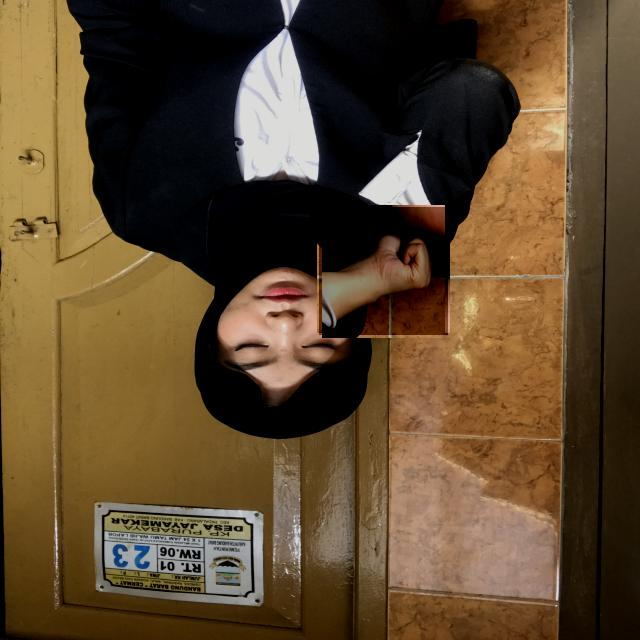ibu: (319, 207, 448, 335)
